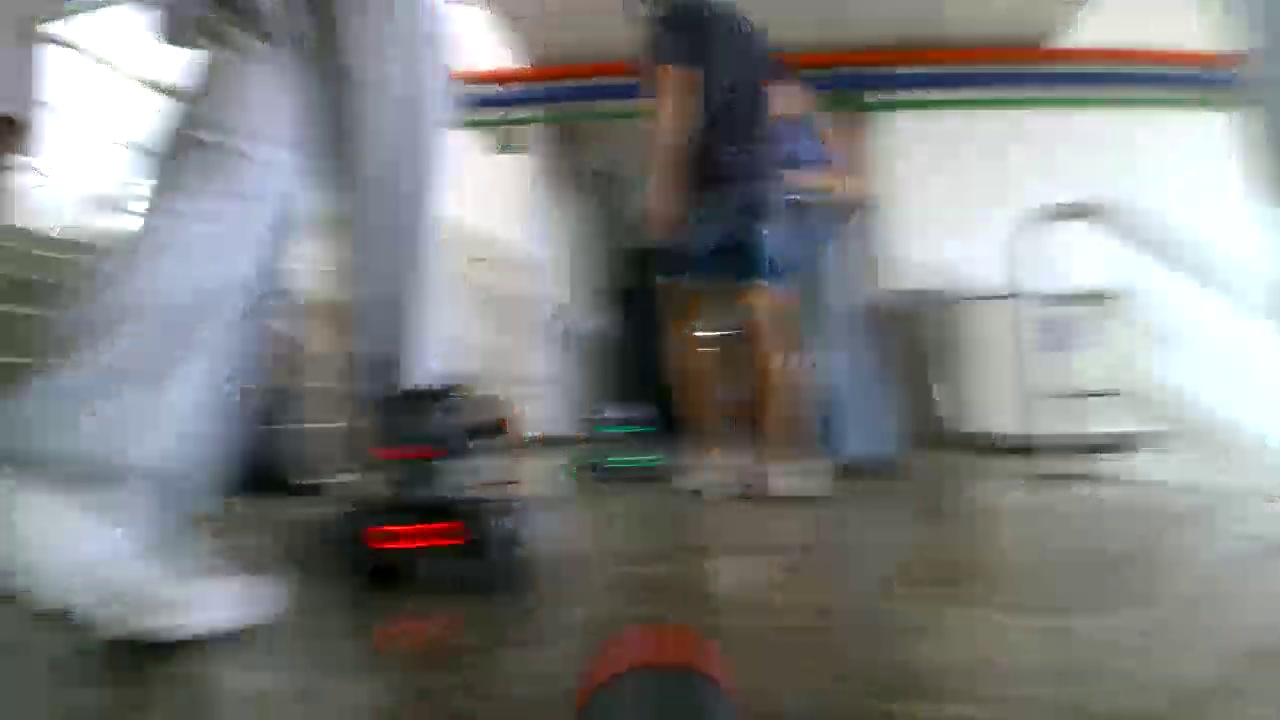robot: (309, 370, 529, 587), (553, 393, 672, 491)
